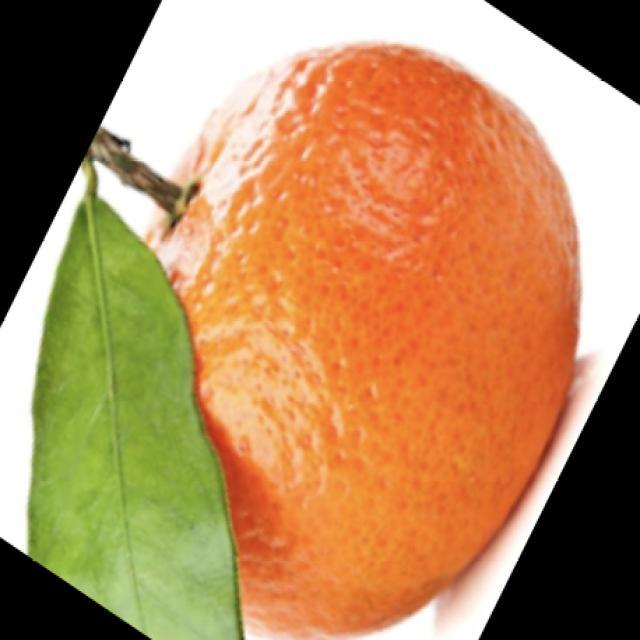Orange: (110, 40, 582, 639)
